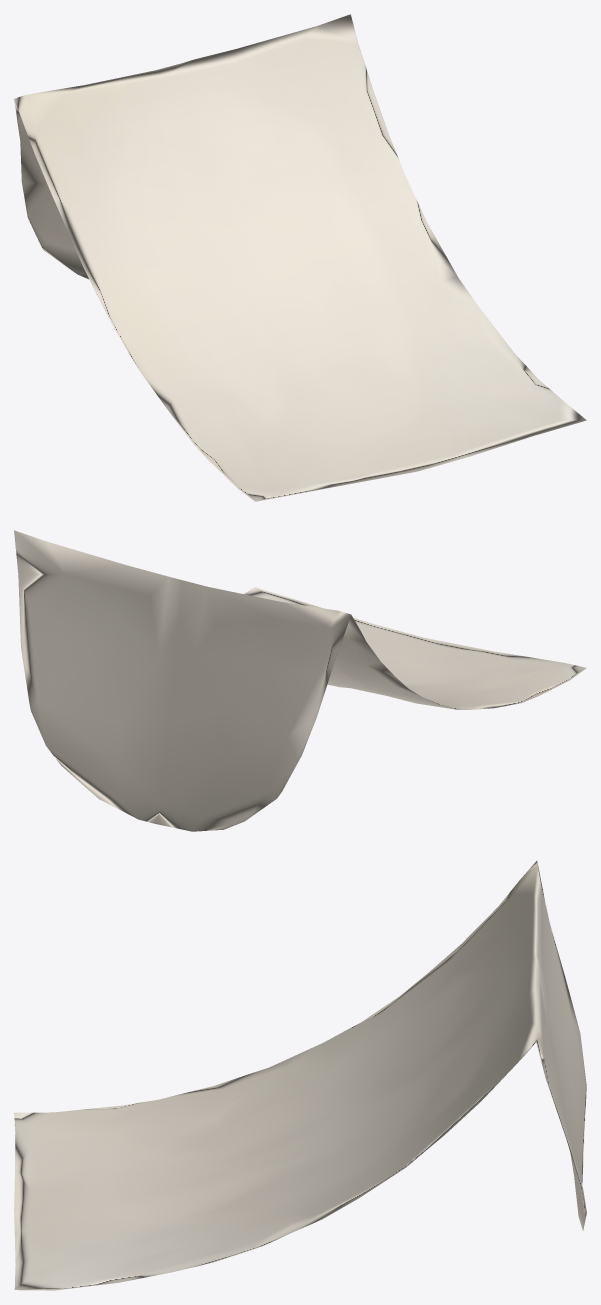
The model's file is ENV_SMALL_PROPS_TISSUE_v001_RAW.glb.glb.
The picture shows the model from 3 angles, top to bottom: view 1: azimuth 30°, elevation 25°; view 2: azimuth 150°, elevation 25°; view 3: azimuth 270°, elevation 25°; orthographic projection. The views are drawn at different scales.
Visible parts, largest first — view 1: tripo_node_5fa9c0dd-0911-4b66-939b-d0ab2c5dae3f; view 2: tripo_node_5fa9c0dd-0911-4b66-939b-d0ab2c5dae3f; view 3: tripo_node_5fa9c0dd-0911-4b66-939b-d0ab2c5dae3f.
Boxes of the visible parts, bbox=[...] form: tripo_node_5fa9c0dd-0911-4b66-939b-d0ab2c5dae3f: bbox=[14, 14, 586, 501]; tripo_node_5fa9c0dd-0911-4b66-939b-d0ab2c5dae3f: bbox=[14, 530, 586, 831]; tripo_node_5fa9c0dd-0911-4b66-939b-d0ab2c5dae3f: bbox=[14, 861, 586, 1290].
Size of the model in its own units: 0.73 by 0.499 by 0.9808.
1 material, 1 textured.
